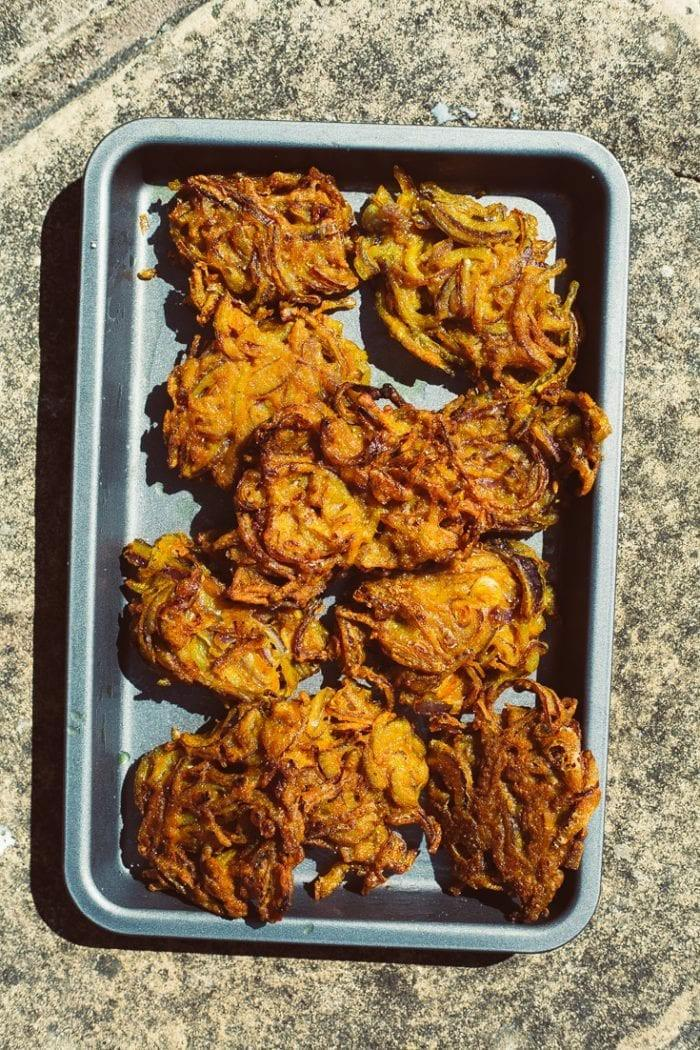OnionPakoda: (125, 138, 600, 923)
